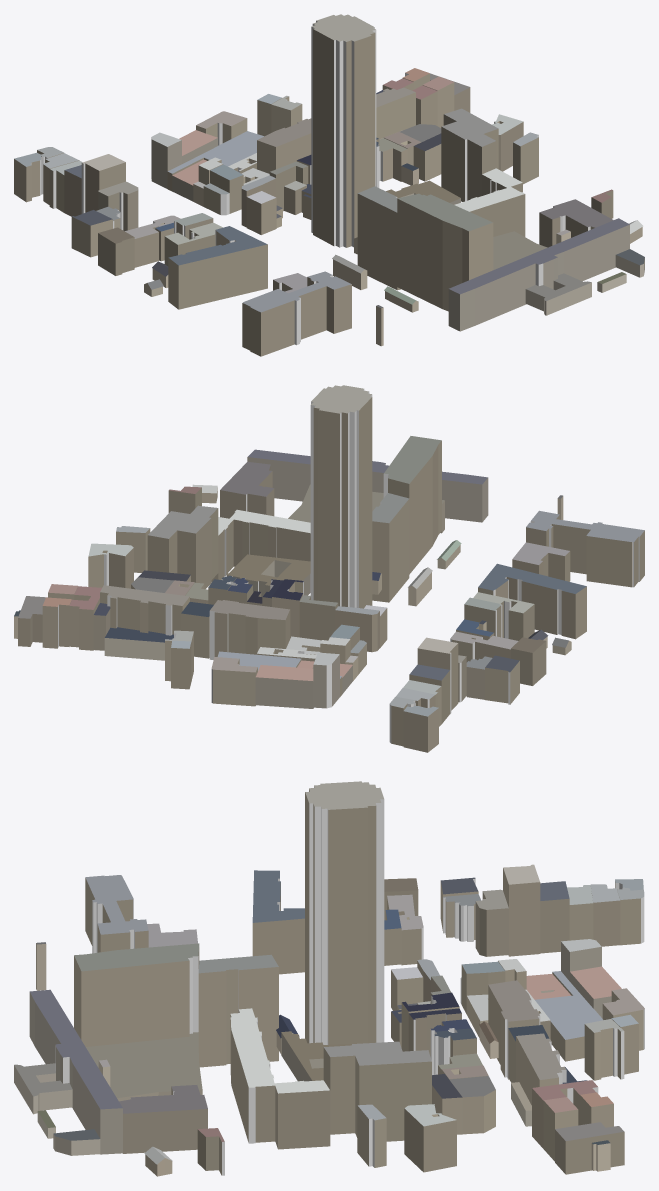
3 renders of one model, top to bottom at view 1: azimuth 30°, elevation 25°; view 2: azimuth 150°, elevation 25°; view 3: azimuth 270°, elevation 25°, orthographic. The views are drawn at different scales.
Visible parts, largest first — view 1: tuile; view 2: tuile; view 3: tuile.
Boxes of the visible parts, <box> form: tuile: <box>14,14,644,356</box>; tuile: <box>14,385,644,752</box>; tuile: <box>14,781,644,1176</box>.
Bounding box in the file's own units: 257 × 121 × 262.
